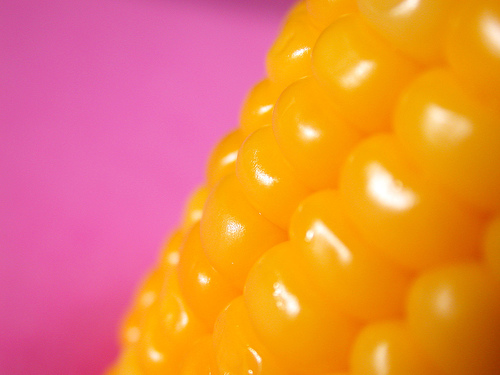corn: (105, 1, 499, 374)
